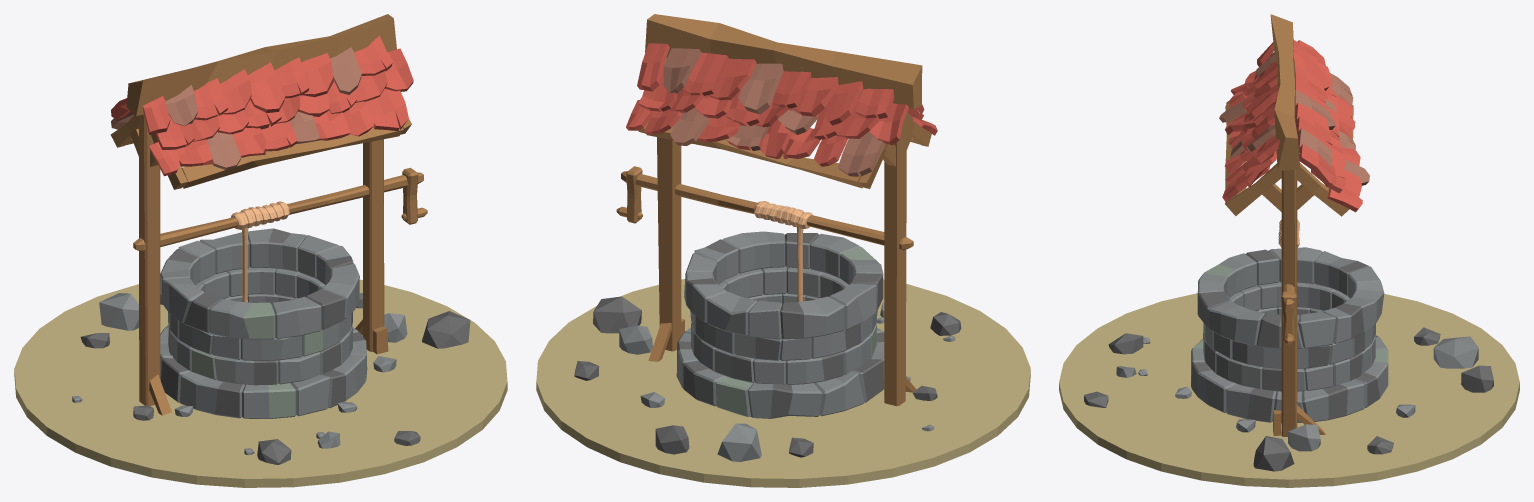
File: pozo (1).fbx
3 views of the same model, side by side, from view 1: azimuth 30°, elevation 25°; view 2: azimuth 150°, elevation 25°; view 3: azimuth 270°, elevation 25° (orthographic). The views are drawn at different scales.
Visible parts, largest first — view 1: Cilindro, Plano_008, Cubo_004, Cubo_003, Cubo, Cubo_002, Cubo_001, Cubo_006, Cubo_013, Esfera_geodésica_001, Esfera_geodésica_016, Cilindro_001 (+4 smaller); view 2: Cilindro, Plano_000, Cubo_004, Cubo_003, Cubo, Cubo_002, Cubo_001, Cubo_013, Cubo_010, Esfera_geodésica_001, Esfera_geodésica_016, Cilindro_001 (+5 smaller); view 3: Cilindro, Cubo_003, Plano_000, Cubo_004, Cubo, Plano_008, Cubo_002, Cubo_001, Esfera_geodésica_016, Esfera_geodésica_001, Cubo_005, Cubo_009 (+4 smaller).
Part boxes in pixels (x1,y1,x2,y2): Cilindro: (14, 279, 507, 487); Plano_008: (143, 35, 413, 176); Cubo_004: (126, 14, 396, 405); Cubo_003: (160, 228, 359, 339); Cubo: (160, 324, 367, 418); Cubo_002: (168, 266, 352, 361); Cubo_001: (168, 294, 352, 385); Cubo_006: (181, 127, 403, 188); Cubo_013: (133, 172, 423, 251); Esfera_geodésica_001: (422, 311, 470, 348); Esfera_geodésica_016: (99, 293, 138, 330); Cilindro_001: (231, 201, 289, 229); Cilindro: (536, 279, 1030, 487); Plano_000: (626, 43, 908, 176); Cubo_004: (645, 14, 922, 406); Cubo_003: (684, 231, 883, 339); Cubo: (676, 327, 884, 418); Cubo_002: (690, 266, 877, 360); Cubo_001: (691, 292, 876, 384); Cubo_013: (621, 171, 913, 250); Cubo_010: (642, 121, 862, 188); Esfera_geodésica_001: (593, 296, 641, 333); Esfera_geodésica_016: (717, 423, 761, 461); Cilindro_001: (754, 201, 812, 228); Cilindro: (1059, 293, 1519, 487); Cubo_003: (1197, 247, 1384, 348); Plano_000: (1293, 39, 1369, 212); Cubo_004: (1270, 14, 1300, 436); Cubo: (1191, 335, 1388, 422); Plano_008: (1219, 42, 1295, 201); Cubo_002: (1203, 281, 1375, 368); Cubo_001: (1203, 307, 1375, 391); Esfera_geodésica_016: (1433, 336, 1478, 368); Esfera_geodésica_001: (1253, 436, 1294, 471); Cubo_005: (1225, 99, 1281, 216); Cubo_009: (1296, 162, 1349, 216).
Size of the model in its own units: 3215 by 2529 by 3215.
